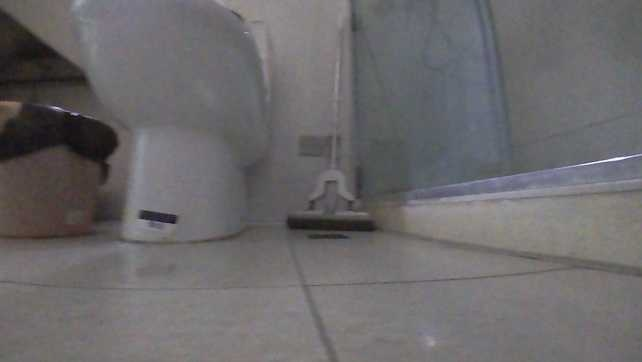toilet: (68, 0, 273, 246)
trash_can: (0, 96, 121, 239)
